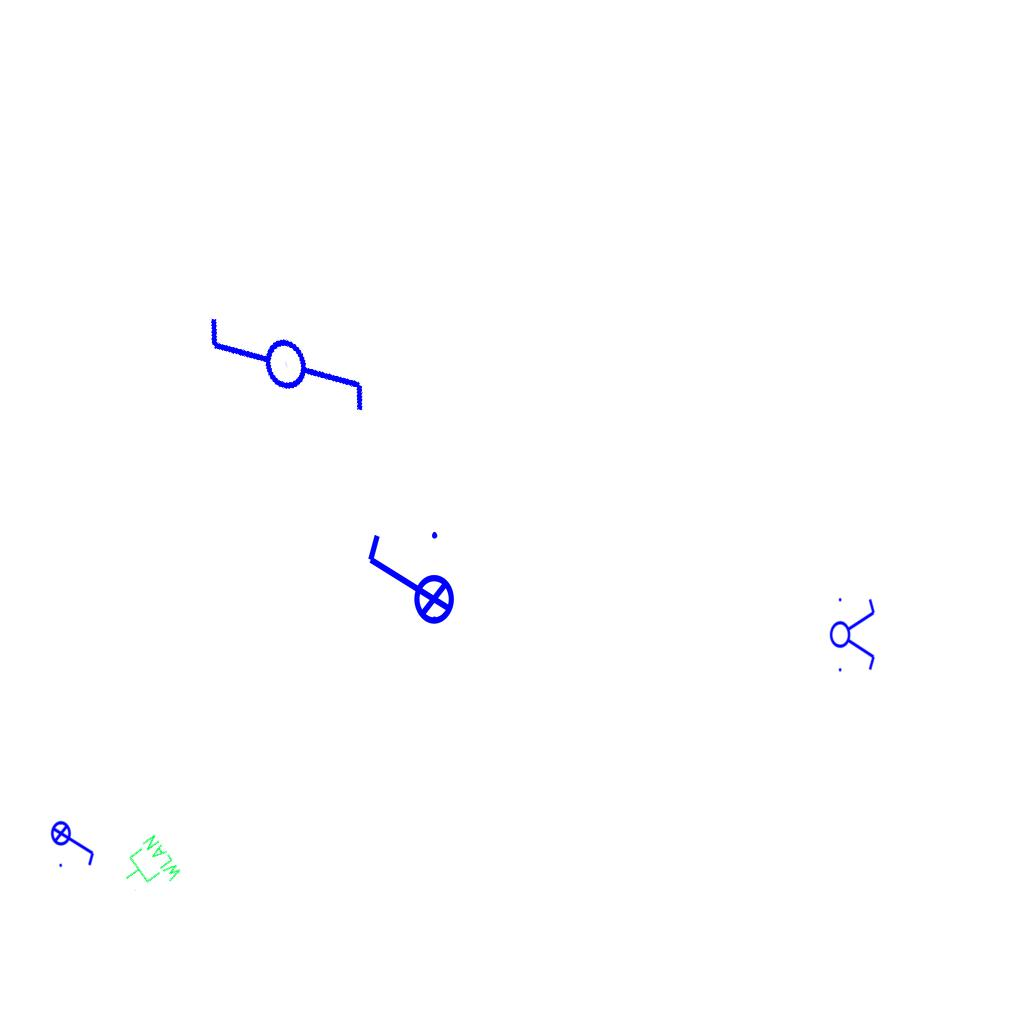Ausschalter_beleuchtet: (360, 526, 456, 638), (50, 814, 98, 870)
Serienschalter: (829, 592, 877, 676)
WLAN: (112, 831, 186, 905)
Wechselschalter: (193, 259, 378, 453)
